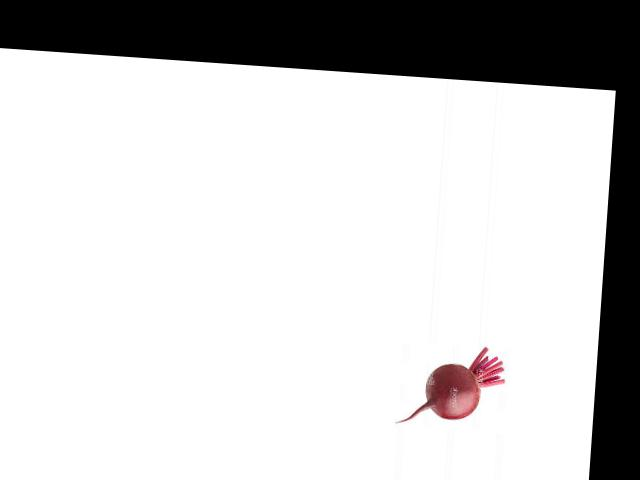beet: (397, 341, 507, 430)
